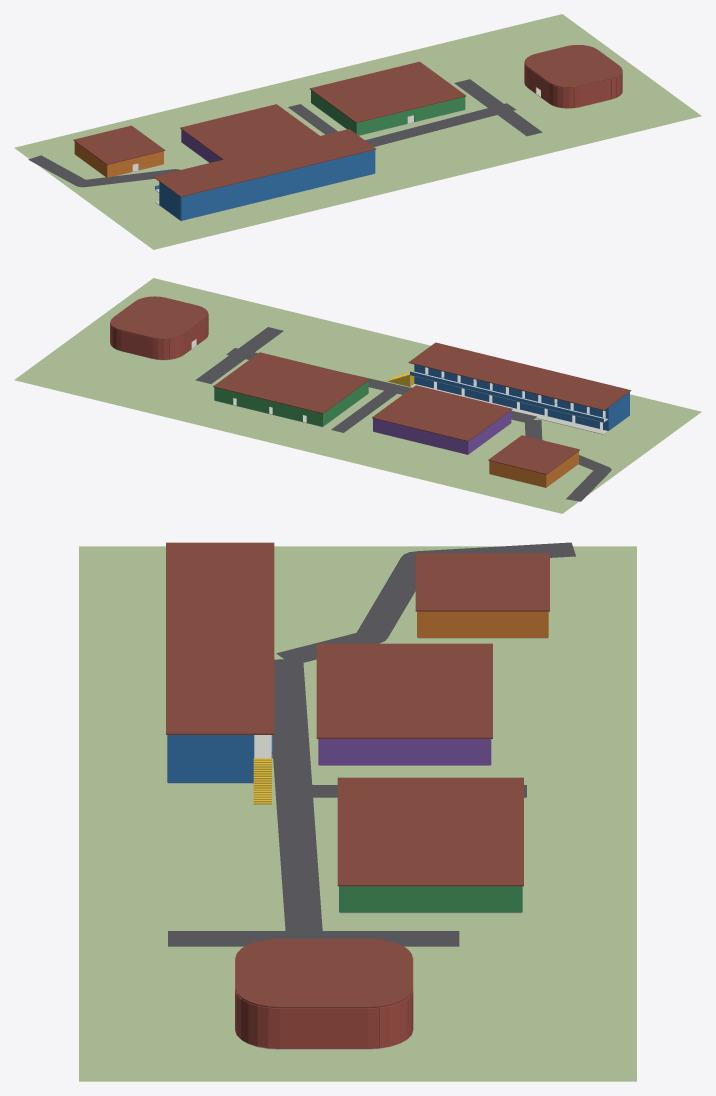
The model's file is GedungBaru.obj.
The picture shows the model from 3 angles, top to bottom: view 1: azimuth 30°, elevation 25°; view 2: azimuth 150°, elevation 25°; view 3: azimuth 270°, elevation 25°; orthographic projection. The views are drawn at different scales.
Parts seen in each view (by area): view 1: Tanah, GedungC_Atap, GKT4_Atap, BAAK_Atap, Jalan, Mesin_Atap, GedungC_L1_Dinding, GedungC_L2_Dinding, Mesin_Dinding, GKT4_Dinding, Bahasa_Atap, Bahasa_Dinding (+1 smaller); view 2: Tanah, GedungC_Atap, GKT4_Atap, BAAK_Atap, Jalan, Mesin_Atap, GedungC_L2_Dinding, GKT4_Dinding, Mesin_Dinding, Bahasa_Atap, BAAK_Dinding, GedungC_L1_Dinding (+3 smaller); view 3: Tanah, GedungC_Atap, GKT4_Atap, Jalan, BAAK_Atap, Mesin_Atap, Bahasa_Atap, Mesin_Dinding, GKT4_Dinding, BAAK_Dinding, Bahasa_Dinding, GedungC_L1_Dinding (+2 smaller).
Boxes of the visible parts, x1,y1,x2,y2 form: Tanah: [14, 14, 701, 249]; GedungC_Atap: [153, 129, 376, 196]; GKT4_Atap: [309, 61, 465, 122]; BAAK_Atap: [180, 104, 319, 159]; Jalan: [28, 79, 542, 187]; Mesin_Atap: [524, 45, 622, 87]; GedungC_L1_Dinding: [159, 161, 375, 220]; GedungC_L2_Dinding: [155, 150, 375, 208]; Mesin_Dinding: [524, 62, 622, 108]; GKT4_Dinding: [311, 90, 465, 135]; Bahasa_Atap: [73, 125, 165, 164]; Bahasa_Dinding: [74, 141, 163, 177]; Tanah: [14, 278, 701, 513]; GedungC_Atap: [408, 342, 631, 410]; GKT4_Atap: [213, 352, 369, 413]; BAAK_Atap: [372, 385, 512, 441]; Jalan: [195, 327, 611, 501]; Mesin_Atap: [110, 296, 208, 339]; GedungC_L2_Dinding: [410, 364, 629, 422]; GKT4_Dinding: [214, 381, 368, 426]; Mesin_Dinding: [110, 314, 208, 359]; Bahasa_Atap: [488, 435, 579, 474]; BAAK_Dinding: [373, 410, 511, 454]; GedungC_L1_Dinding: [414, 374, 629, 430]; Tanah: [79, 546, 636, 1081]; GedungC_Atap: [166, 542, 274, 734]; GKT4_Atap: [337, 777, 523, 886]; Jalan: [168, 542, 575, 946]; BAAK_Atap: [316, 643, 492, 738]; Mesin_Atap: [235, 939, 412, 1008]; Bahasa_Atap: [415, 553, 549, 611]; Mesin_Dinding: [235, 954, 413, 1048]; GKT4_Dinding: [339, 886, 522, 912]; BAAK_Dinding: [318, 739, 491, 765]; Bahasa_Dinding: [417, 611, 548, 637]; GedungC_L1_Dinding: [167, 758, 253, 782].
Bounding box in the file's own units: 171 × 7.6 × 75.1.
